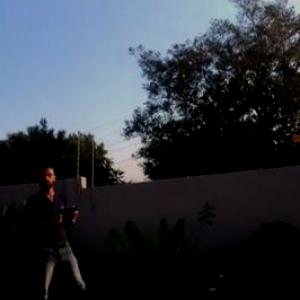follow: (21, 149, 110, 299)
